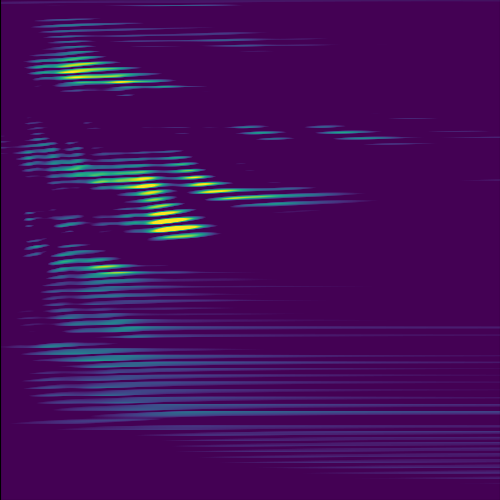semblance: (54, 47, 151, 97), (133, 201, 212, 242), (113, 169, 177, 204)
